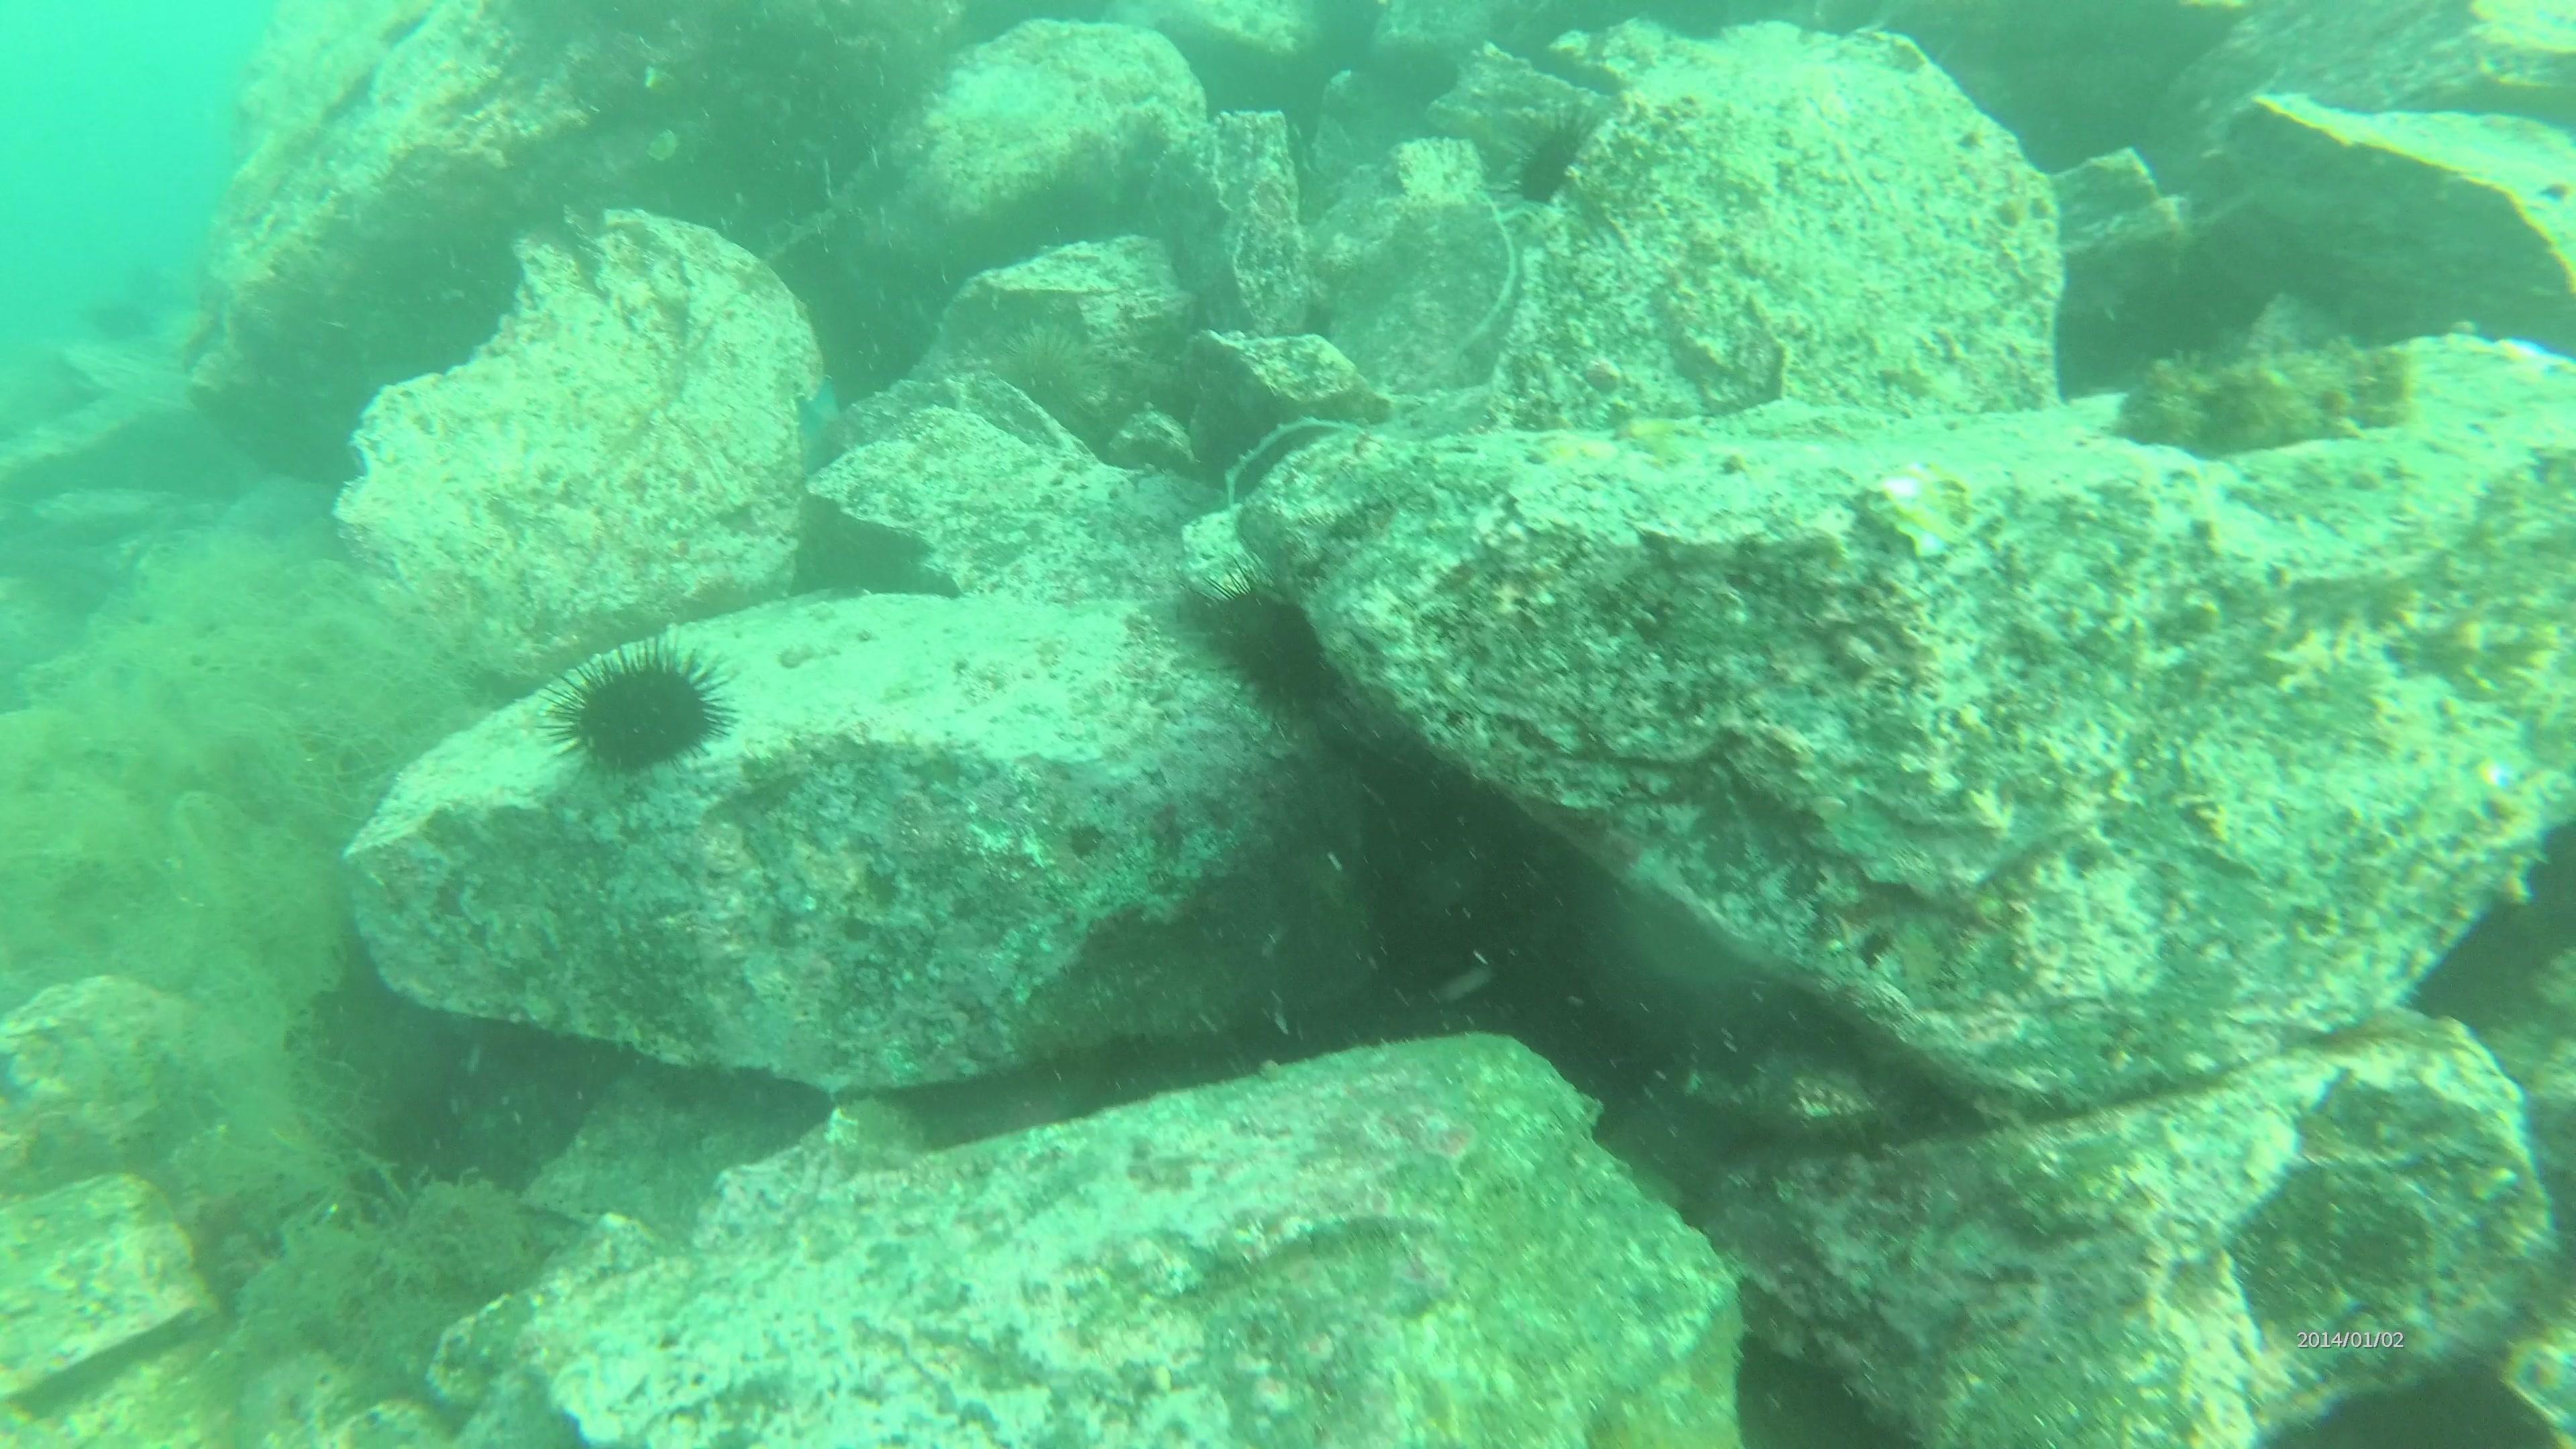echinus: (545, 635, 736, 784), (1194, 573, 1345, 724), (975, 313, 1123, 453), (1513, 113, 1601, 202)
starfish: (784, 370, 858, 483)
